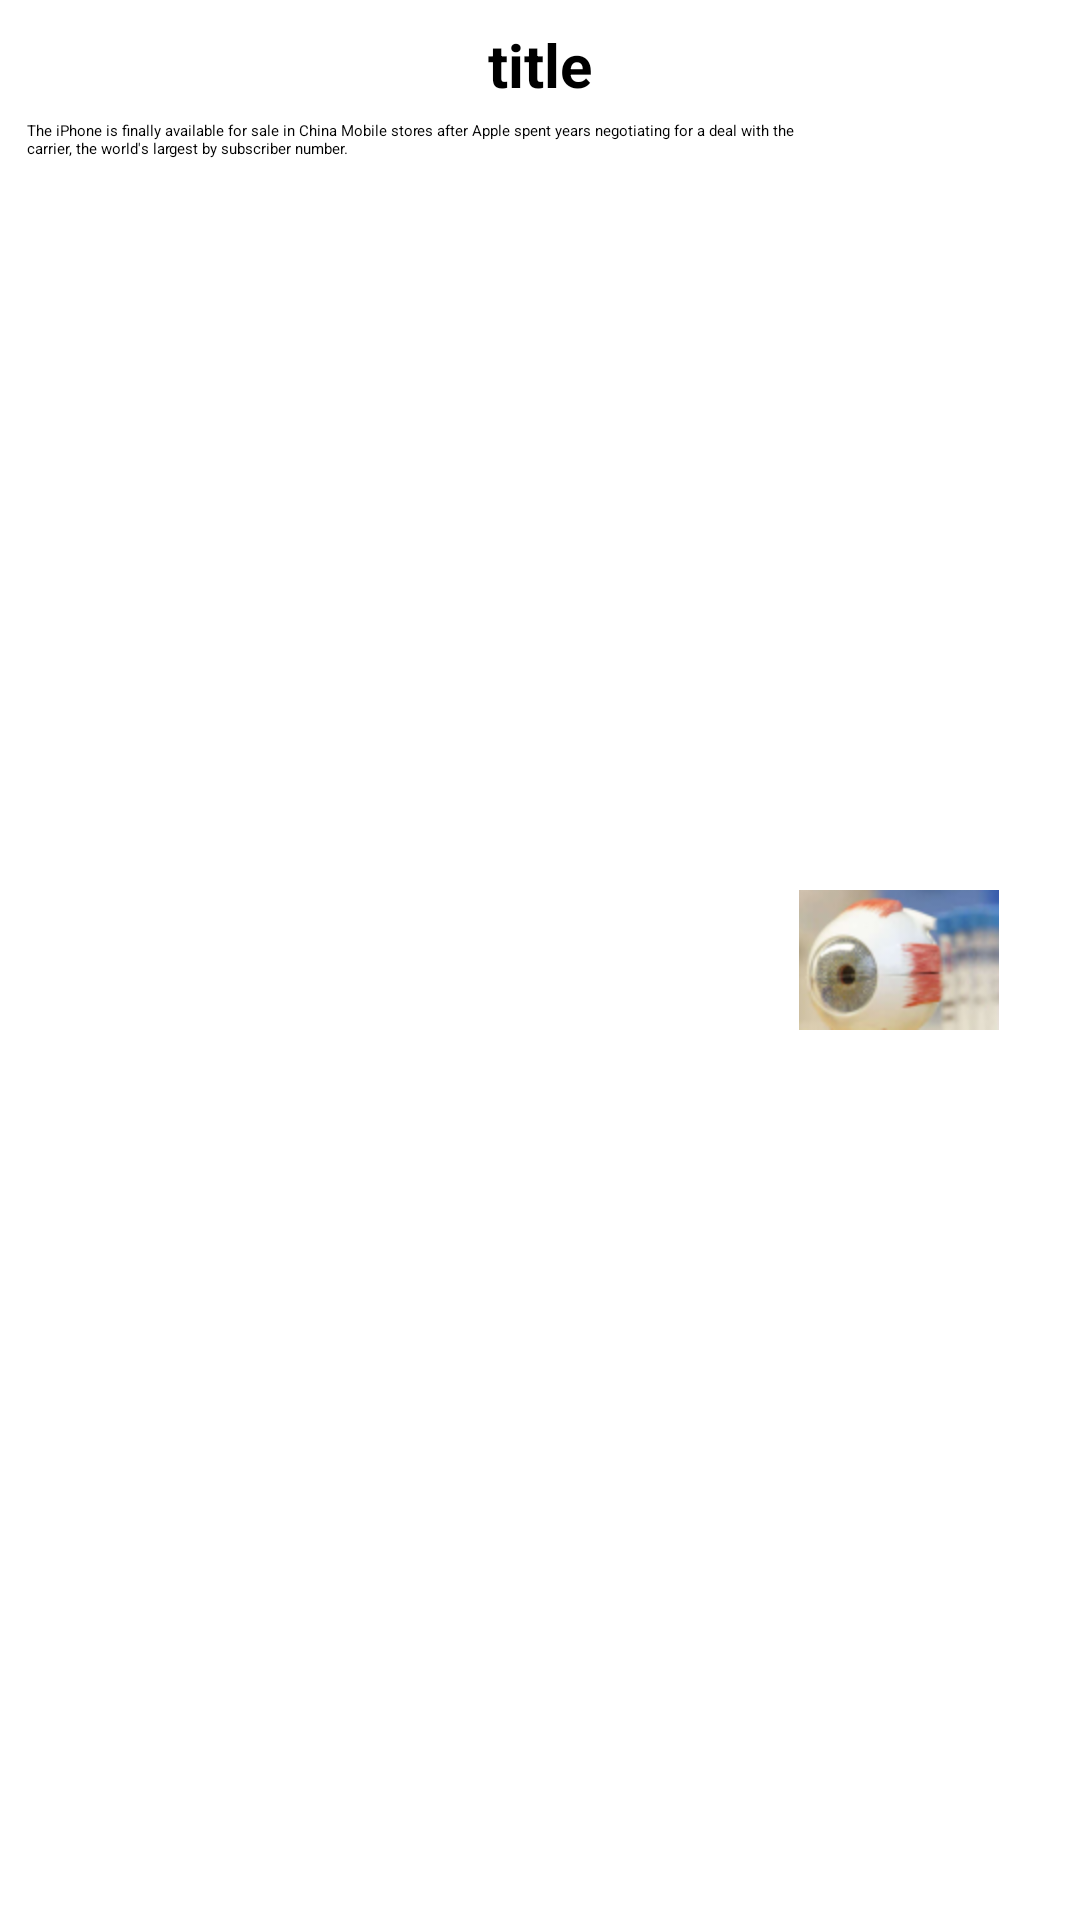

Named icons in this screenshot (1080 x 1920) and their centers, [x,y]:
mseye: [899,960]
